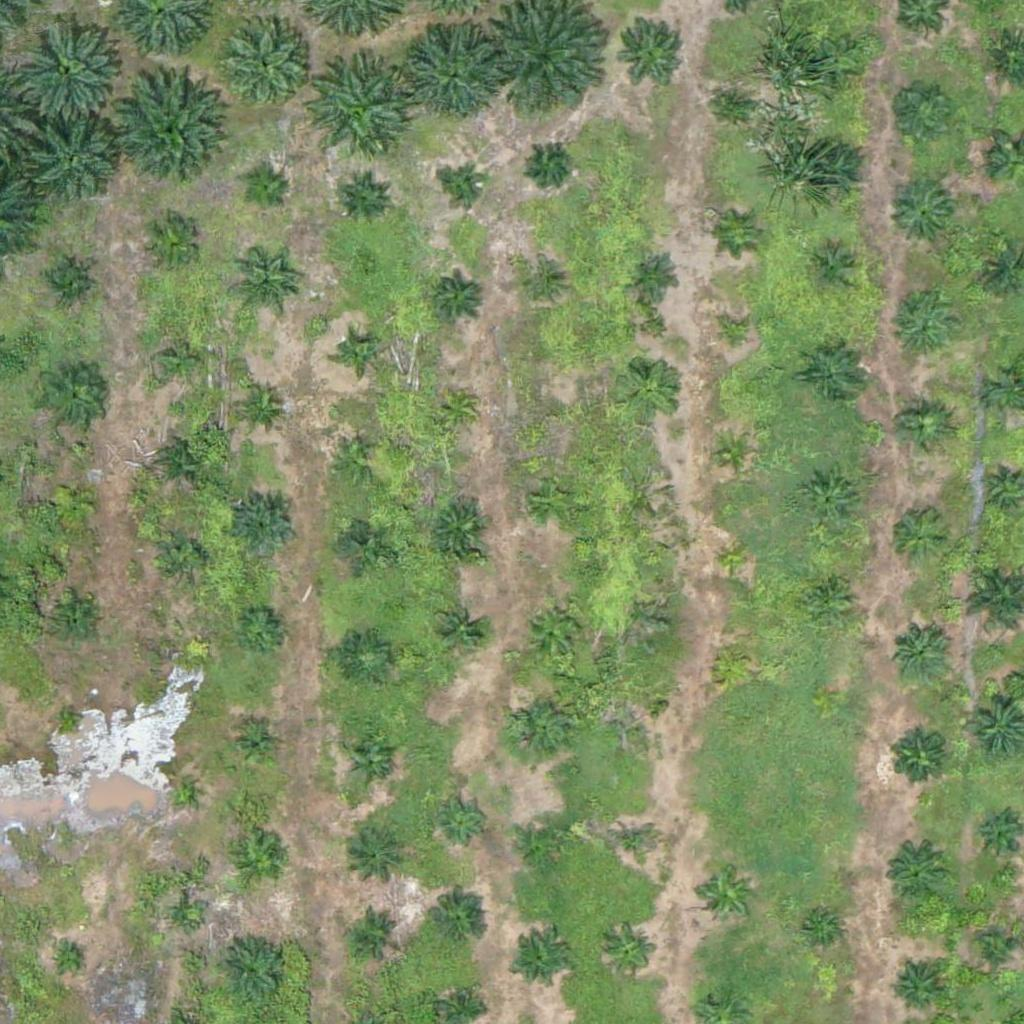Kelapa_Sawit: (111, 78, 224, 192), (12, 8, 124, 122), (300, 60, 412, 173), (401, 21, 501, 122), (215, 15, 315, 116), (30, 119, 118, 207), (213, 932, 288, 1008), (882, 77, 957, 153), (614, 13, 689, 88), (886, 505, 949, 568), (891, 298, 954, 361), (889, 622, 952, 685), (347, 825, 410, 888), (232, 258, 295, 321), (138, 212, 201, 275), (505, 696, 568, 759), (804, 341, 867, 404), (695, 864, 758, 927), (234, 494, 297, 557), (800, 471, 863, 534), (805, 141, 868, 204), (149, 329, 212, 392), (426, 894, 489, 957), (510, 932, 572, 995), (890, 182, 952, 245), (883, 842, 945, 905), (887, 725, 949, 788), (42, 367, 104, 430), (429, 498, 491, 561), (523, 599, 585, 662), (619, 359, 681, 422), (604, 925, 654, 976), (889, 963, 939, 1014), (341, 633, 391, 684), (809, 245, 859, 296), (339, 515, 389, 566), (159, 437, 209, 488), (816, 39, 866, 90), (235, 380, 285, 431), (160, 531, 210, 582), (39, 258, 89, 309), (48, 477, 98, 528), (236, 604, 286, 655), (434, 604, 484, 655), (608, 819, 658, 870), (520, 817, 570, 868), (438, 794, 488, 845), (346, 736, 396, 787), (898, 404, 948, 454), (970, 813, 1020, 863), (339, 173, 389, 223), (235, 838, 285, 888), (433, 271, 483, 321), (803, 572, 853, 622), (971, 927, 1021, 977), (629, 250, 679, 300), (529, 475, 579, 525), (332, 435, 382, 485), (240, 168, 290, 218), (54, 598, 104, 648), (349, 908, 399, 958), (231, 721, 281, 771), (723, 215, 761, 253), (530, 143, 568, 181), (716, 316, 754, 354), (714, 435, 752, 473), (716, 542, 754, 580), (712, 642, 750, 680), (438, 389, 476, 427), (341, 334, 379, 372), (803, 913, 841, 951), (447, 169, 484, 207), (524, 267, 561, 305), (536, 396, 573, 434), (619, 694, 656, 732), (718, 87, 755, 124), (168, 778, 193, 803), (173, 906, 198, 931), (56, 949, 81, 974), (56, 705, 81, 730)
